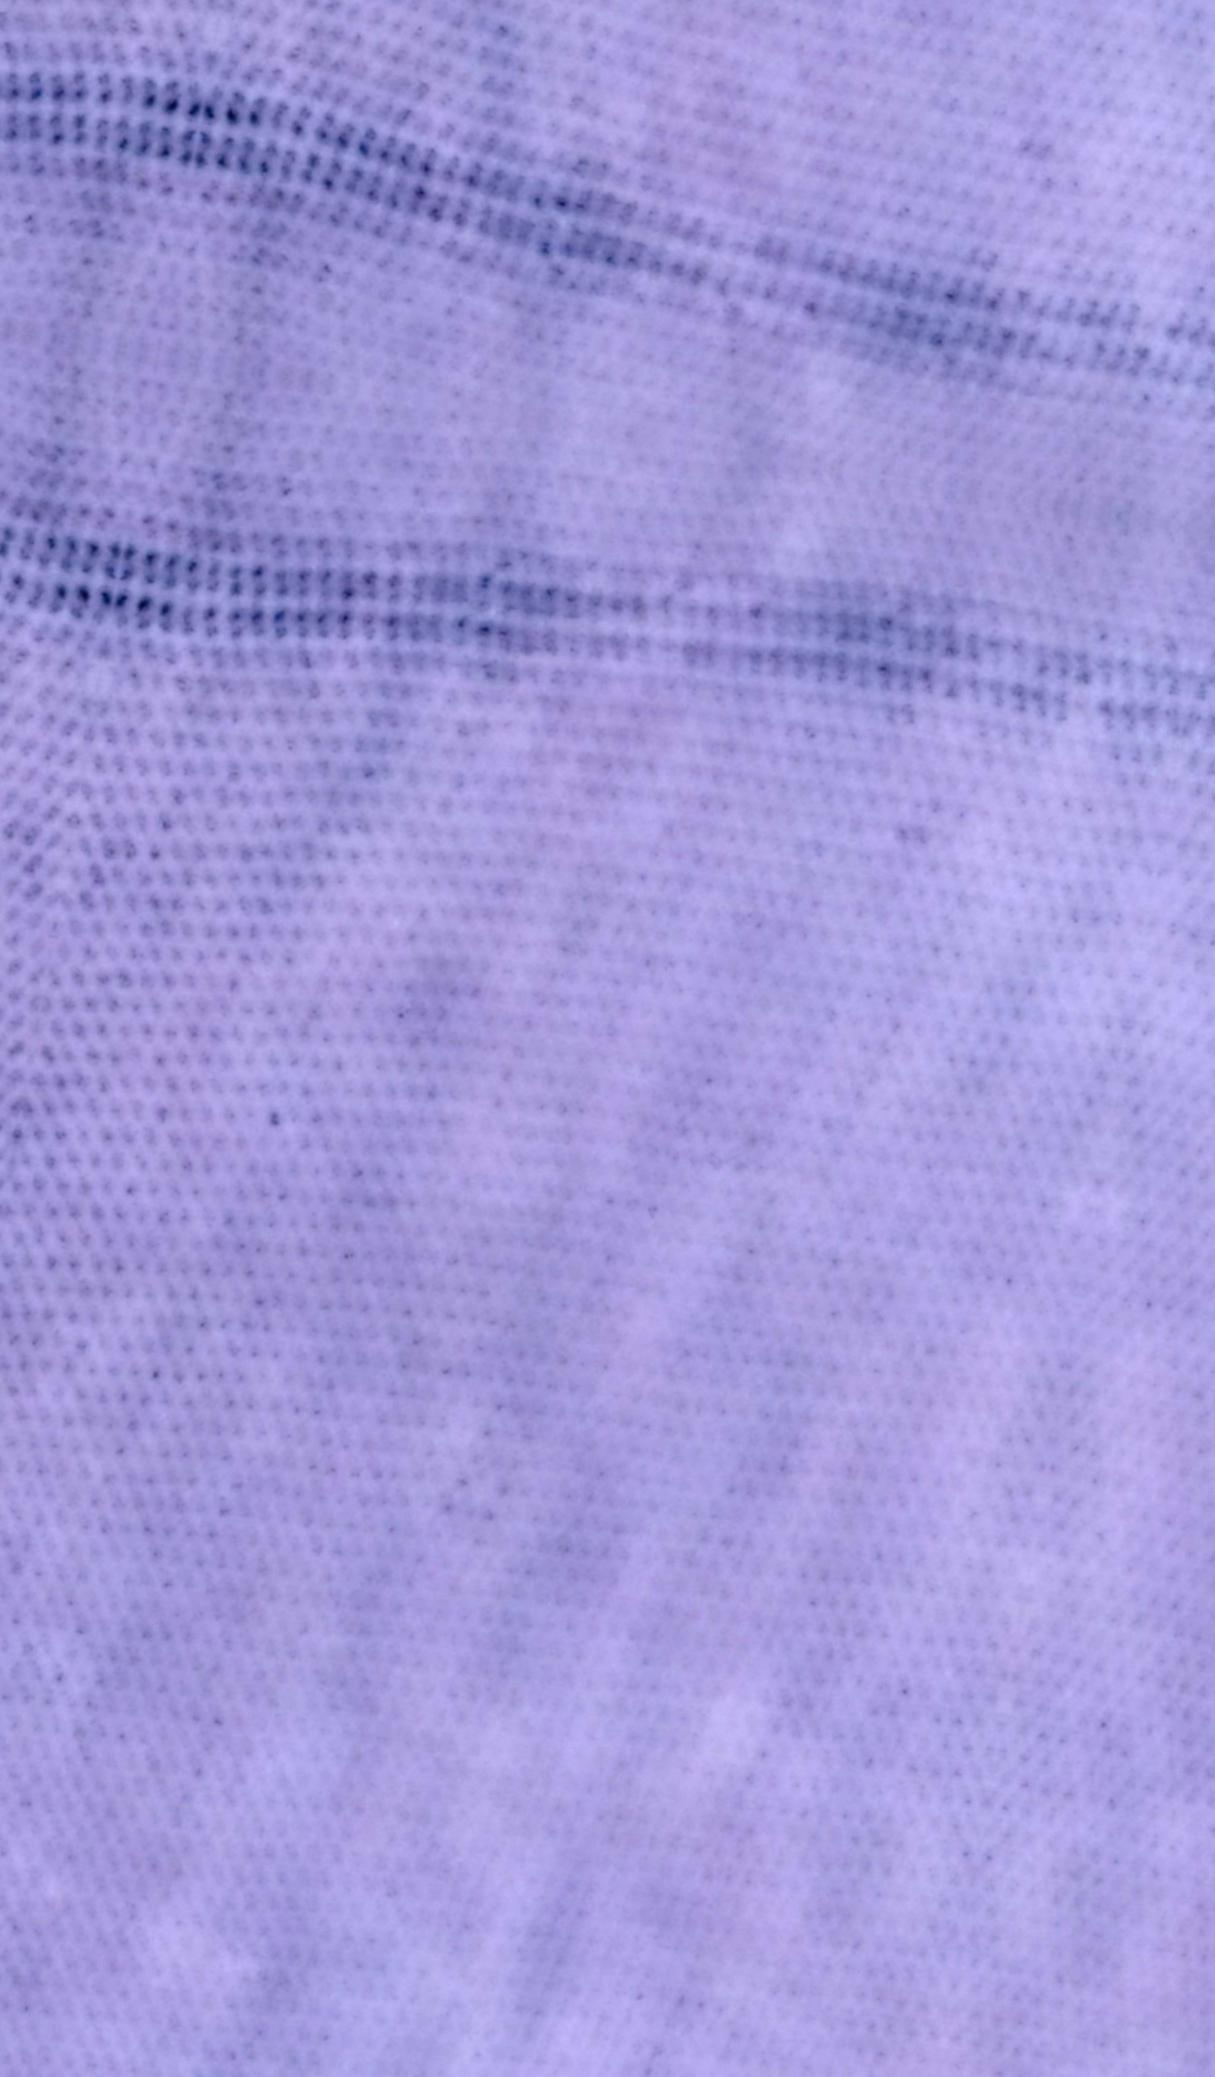slub: (4, 42, 1215, 418), (4, 512, 1215, 785)
